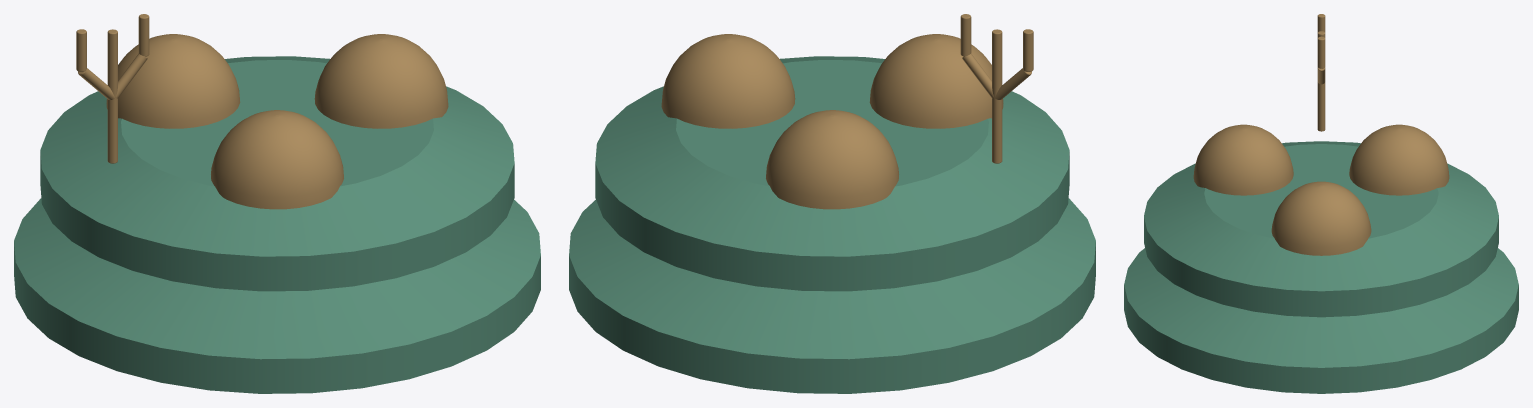
The picture shows the model from 3 angles, left to right: view 1: azimuth 30°, elevation 25°; view 2: azimuth 150°, elevation 25°; view 3: azimuth 270°, elevation 25°; orthographic projection. The views are drawn at different scales.
Parts seen in each view (by area): view 1: Terraced oval hull.001, Terraced oval hull, Saucer roof auxiliary pod.002, Saucer roof auxiliary pod, Saucer roof auxiliary pod.001, Aerial stem, Aerial fork tine.001, Aerial fork.001, Aerial fork tine; view 2: Terraced oval hull.001, Terraced oval hull, Saucer roof auxiliary pod.001, Saucer roof auxiliary pod, Saucer roof auxiliary pod.002, Aerial stem, Aerial fork tine.001, Aerial fork.001, Aerial fork tine; view 3: Terraced oval hull.001, Terraced oval hull, Saucer roof auxiliary pod, Saucer roof auxiliary pod.001, Saucer roof auxiliary pod.002, Aerial stem.
Part boxes in pixels (box(x1,y1,x2,y2)): Terraced oval hull.001: box(40, 56, 514, 291); Terraced oval hull: box(14, 198, 540, 393); Saucer roof auxiliary pod.002: box(211, 110, 343, 209); Saucer roof auxiliary pod: box(314, 34, 448, 128); Saucer roof auxiliary pod.001: box(106, 34, 240, 128); Aerial stem: box(107, 29, 117, 163); Aerial fork tine.001: box(138, 14, 149, 56); Aerial fork.001: box(115, 53, 147, 98); Aerial fork tine: box(76, 29, 86, 71); Terraced oval hull.001: box(595, 56, 1069, 291); Terraced oval hull: box(569, 198, 1095, 393); Saucer roof auxiliary pod.001: box(766, 110, 898, 209); Saucer roof auxiliary pod: box(661, 34, 795, 128); Saucer roof auxiliary pod.002: box(869, 34, 1003, 128); Aerial stem: box(992, 29, 1002, 163); Aerial fork tine.001: box(960, 14, 971, 56); Aerial fork.001: box(962, 53, 994, 98); Aerial fork tine: box(1023, 29, 1033, 71); Terraced oval hull.001: box(1144, 141, 1498, 317); Terraced oval hull: box(1124, 248, 1518, 393); Saucer roof auxiliary pod: box(1271, 181, 1371, 255); Saucer roof auxiliary pod.001: box(1349, 124, 1449, 195); Saucer roof auxiliary pod.002: box(1193, 124, 1293, 195); Aerial stem: box(1317, 31, 1325, 131).
Size of the model in its own units: 2.2 by 1.48 by 2.2.
